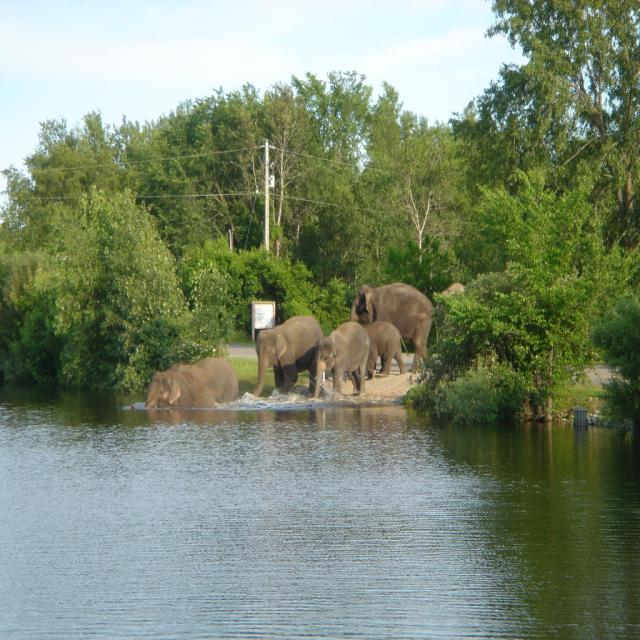Elephant: (351, 282, 438, 372), (248, 324, 322, 391), (148, 361, 235, 411), (314, 320, 372, 395), (439, 286, 470, 352), (367, 322, 404, 373)
